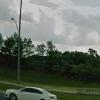Tree: (37, 32, 100, 89)
